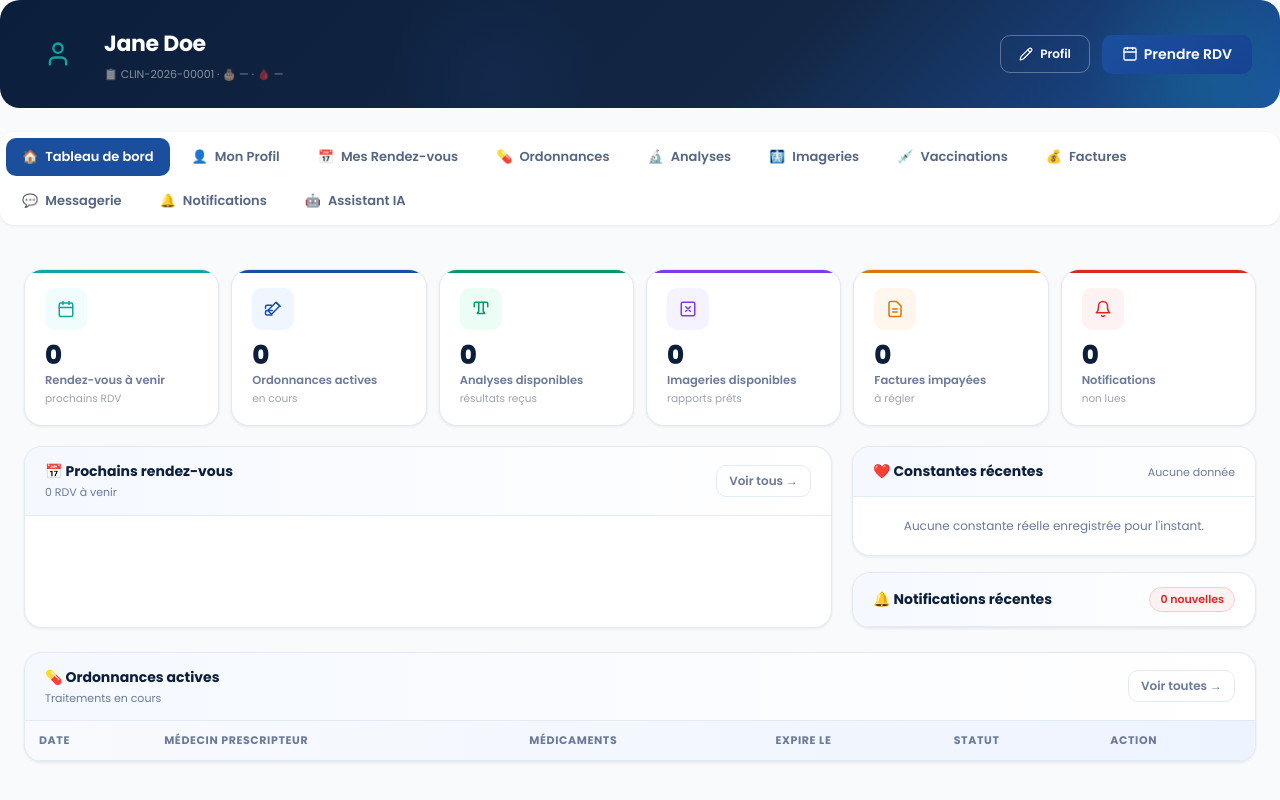
Test: Envoyer un message appelle réellement POST /messages/:id/send avec le contenu saisi
Click the button "💬 Messagerie" at [72, 200], box [6,182,138,219]
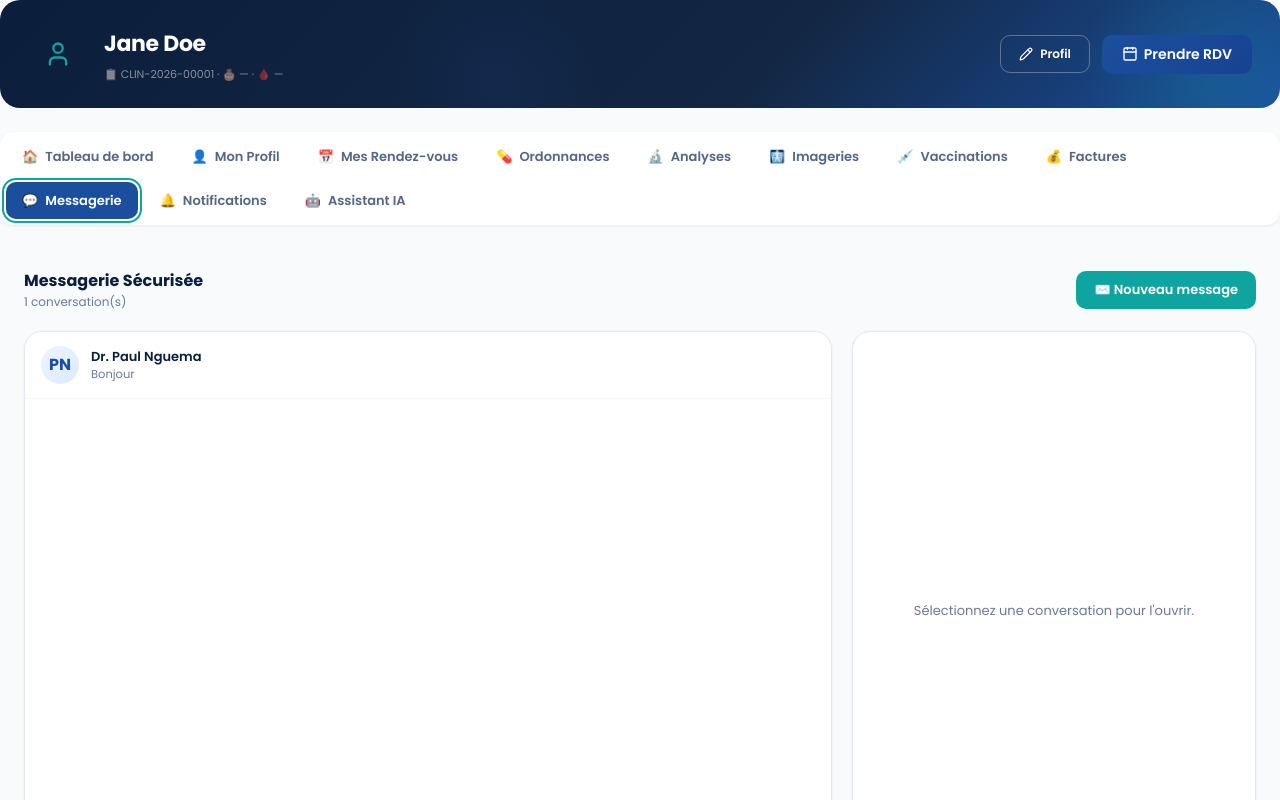
Click the text "Bonjour" at [113, 374], box [91,366,135,382]
(page scrolled)
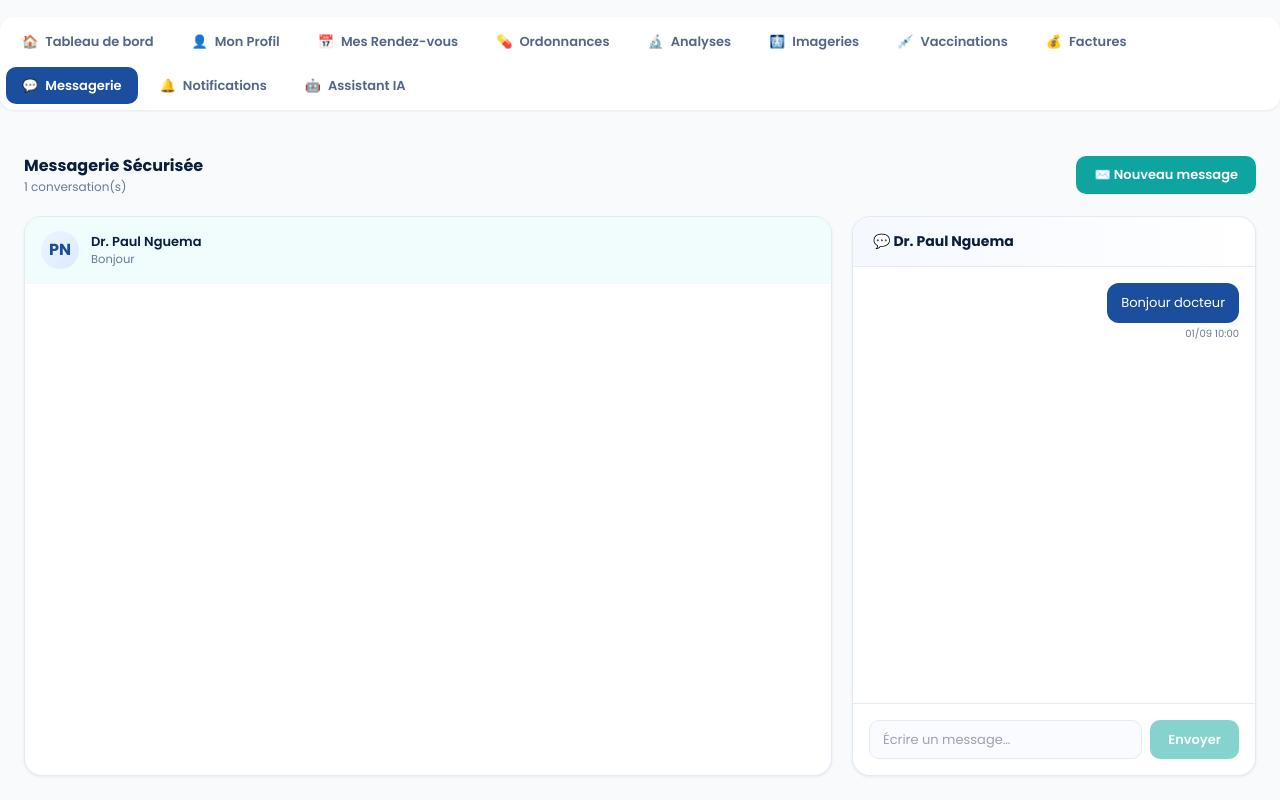
expect the text "Bonjour docteur" is shown: met, box [1107,283,1239,322]
Type "Une question sur mon traitement" into the field with placeholder "Écrire un message…" at [1006, 739], box [869,720,1142,759]
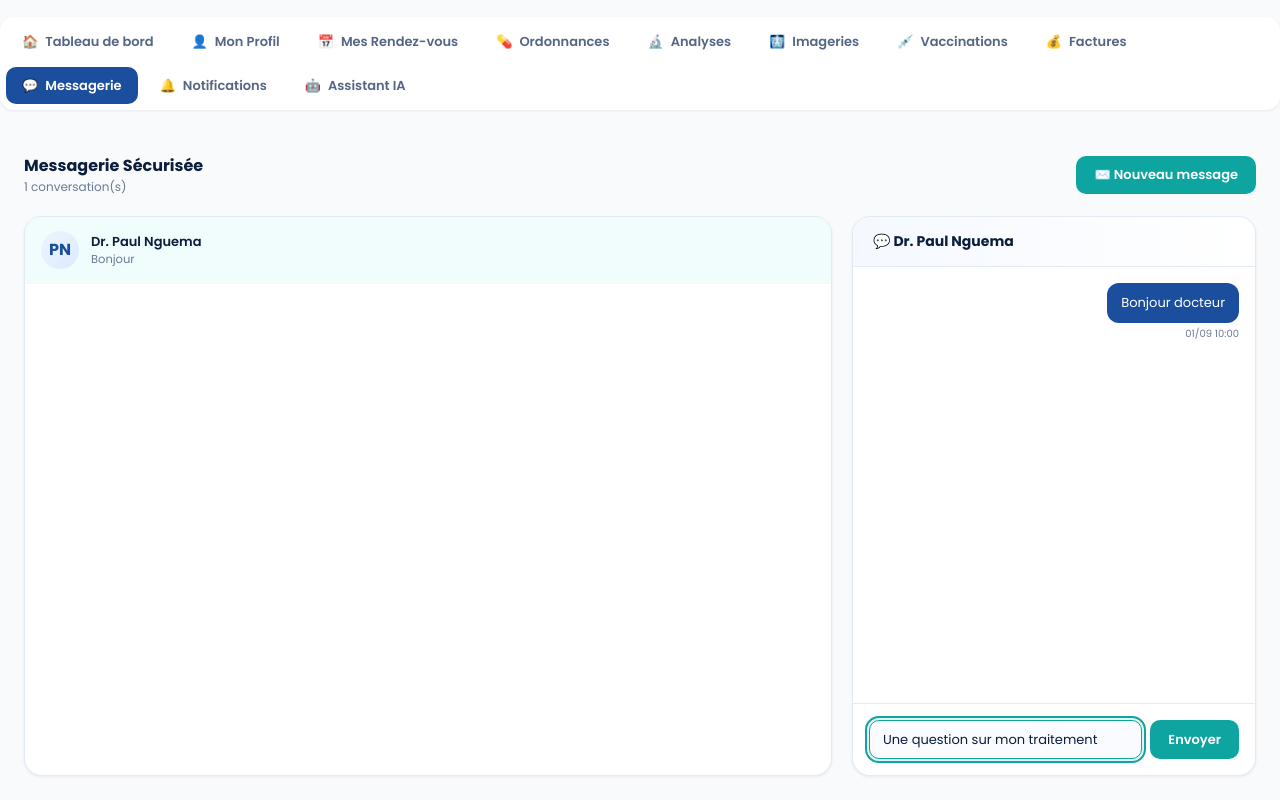
Click the button "Envoyer" at [1195, 739], box [1150,720,1239,759]
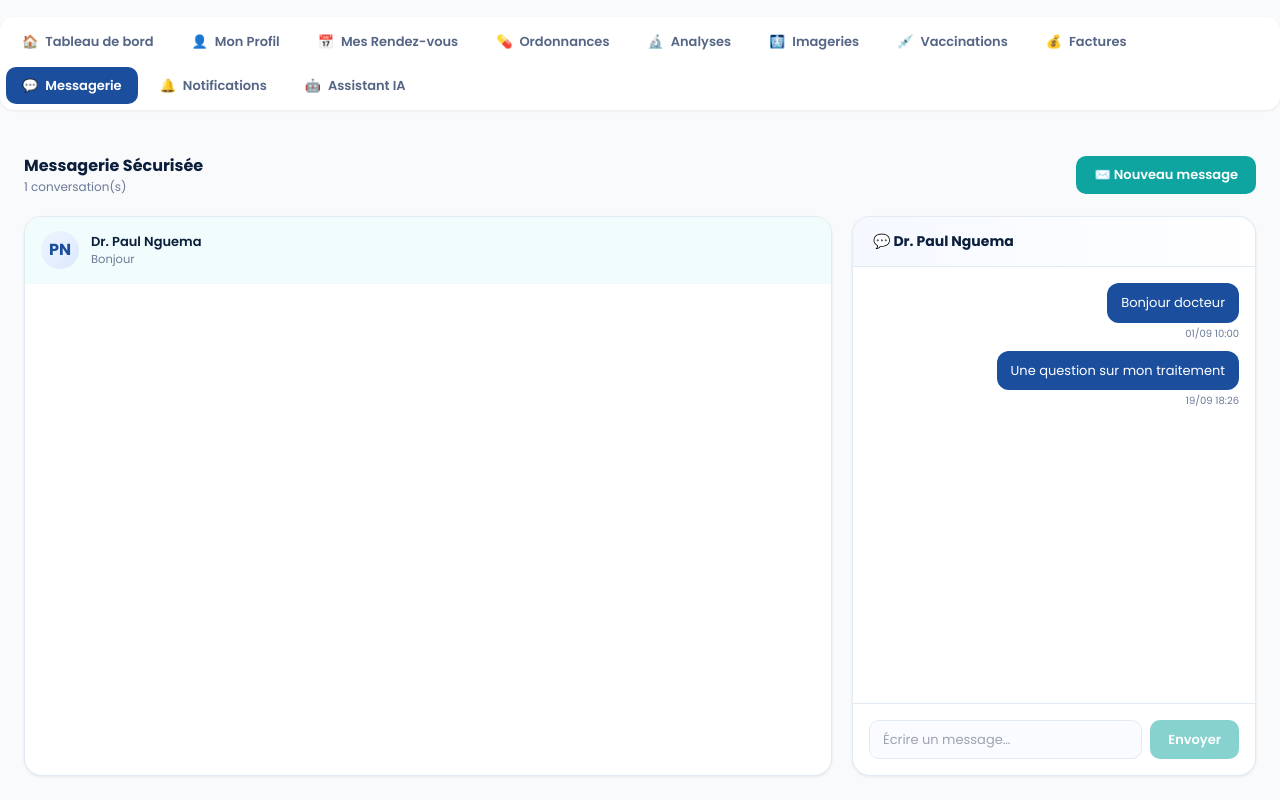
expect the text "Une question sur mon traitement" is shown: met, box [997,350,1239,390]
